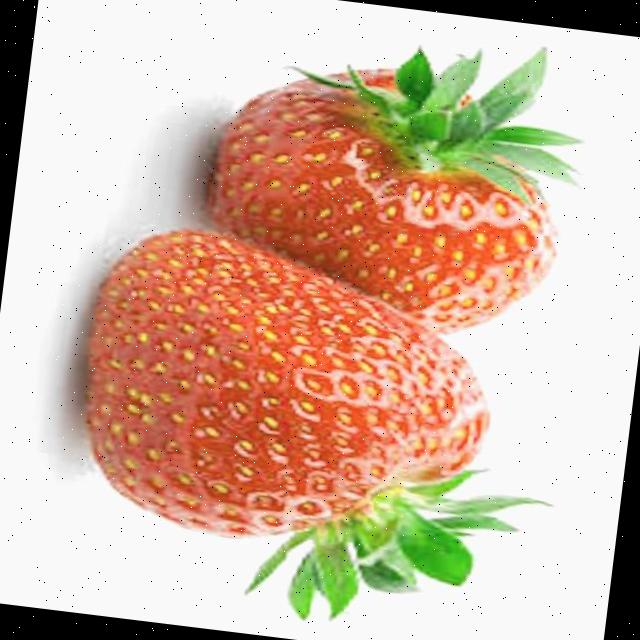strawberry: (86, 231, 538, 616), (206, 50, 576, 331)
